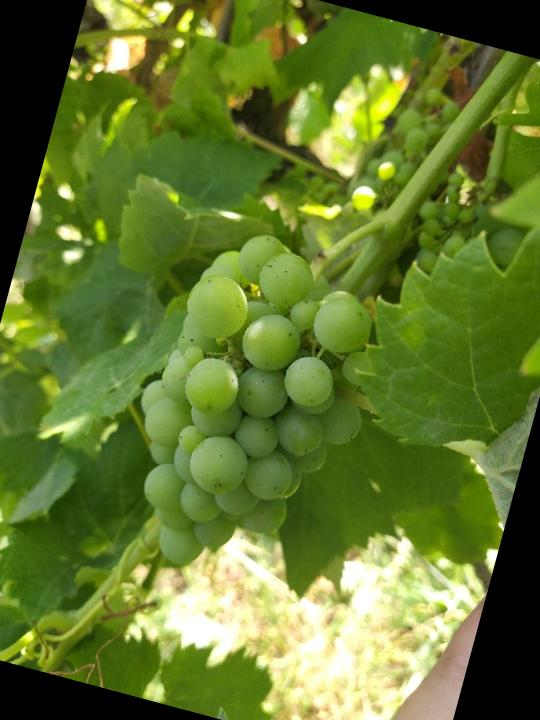grape: (96, 210, 406, 607)
